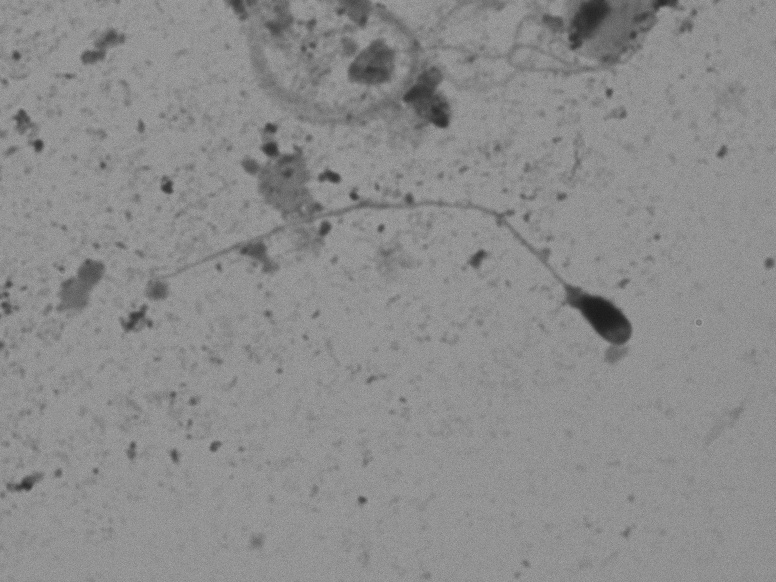Abnormal: (109, 164, 643, 378)
